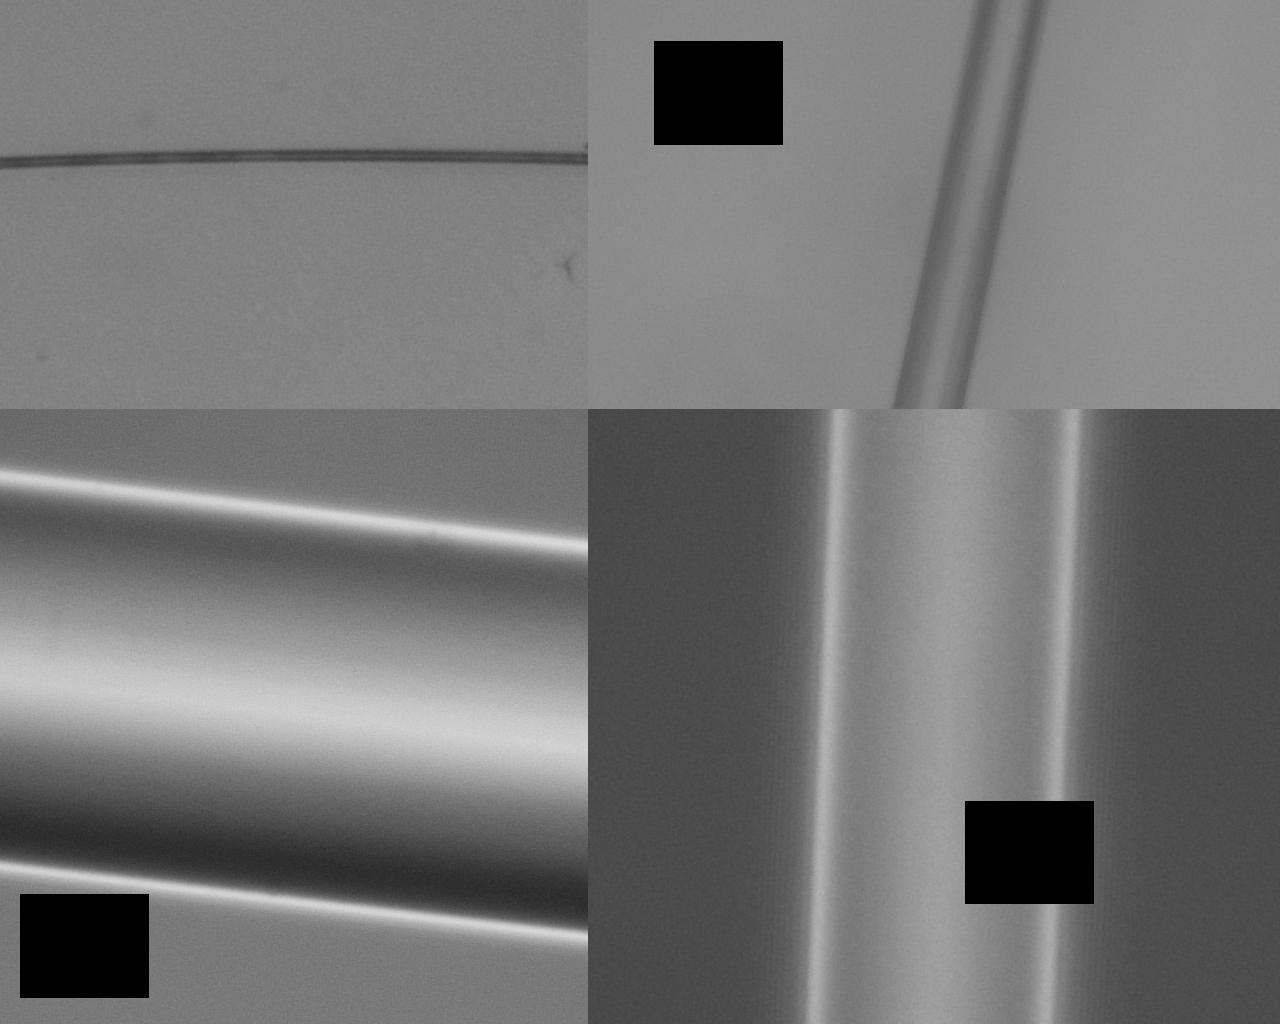fiber: (296, 645, 395, 1024)
